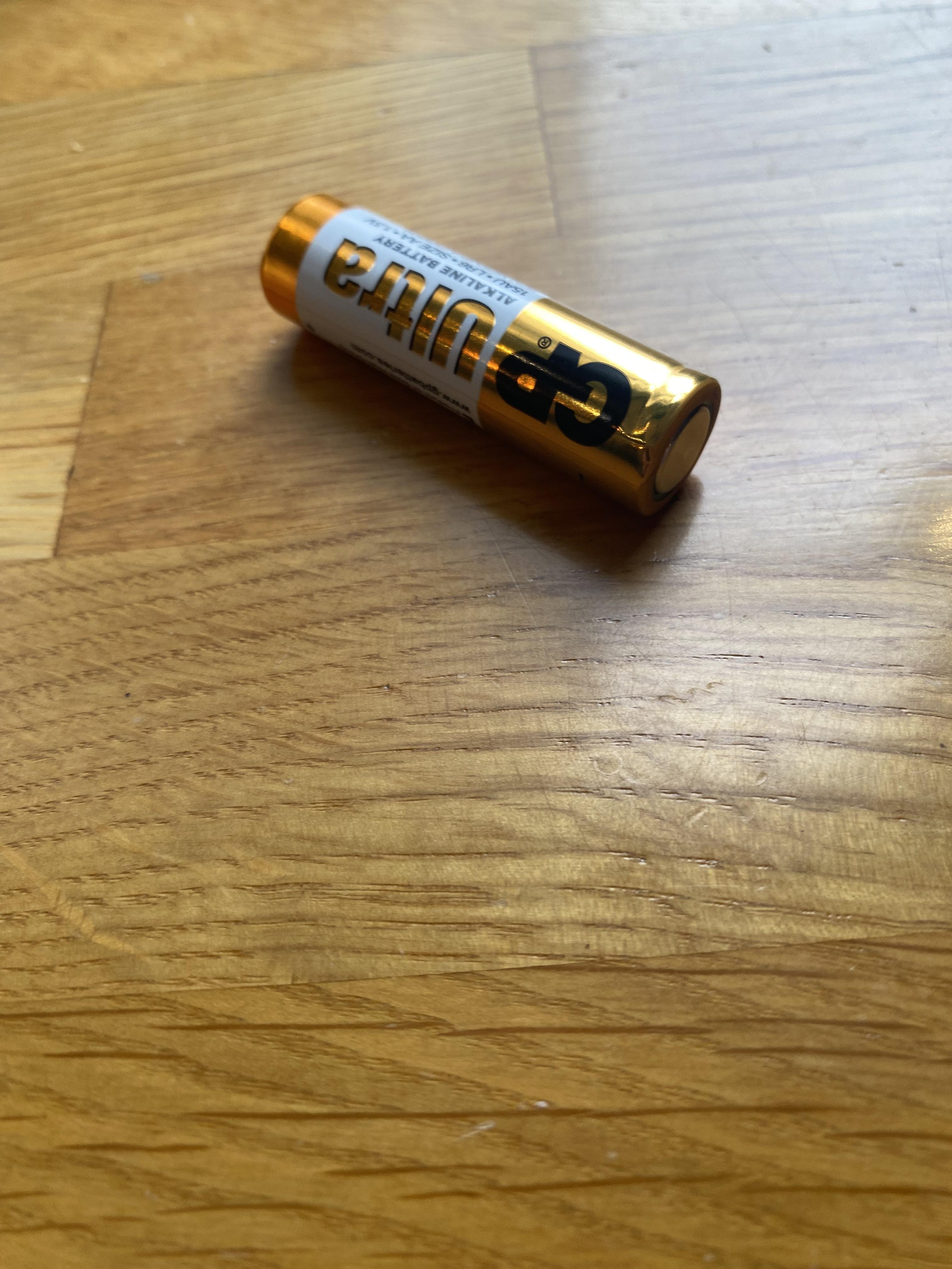AA: (258, 189, 722, 519)
